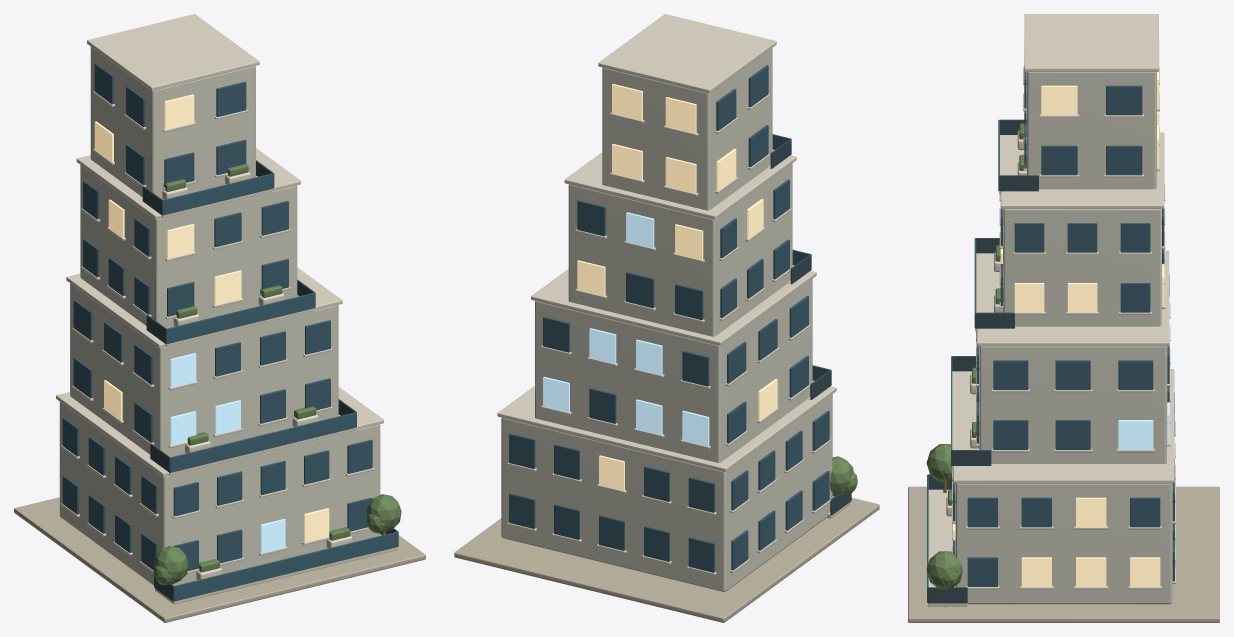
Rendered from residence.glb.
3 renders of one model, left to right at view 1: azimuth 30°, elevation 25°; view 2: azimuth 150°, elevation 25°; view 3: azimuth 270°, elevation 25°, orthographic. The views are drawn at different scales.
Visible parts, largest first — view 1: residence_Building_Volume, residence_Building_Volume.001, residence_Building_Volume.002, residence_Building_Volume.003, residence_Site_Paving, residence_Roof_Coping.003, residence_Balcony_Glass, residence_Balcony_Glass.001, residence_Balcony_Glass.002, residence_Roof_Coping, residence_Roof_Coping.001, residence_Balcony_Glass.003 (+42 smaller); view 2: residence_Building_Volume, residence_Building_Volume.001, residence_Building_Volume.002, residence_Building_Volume.003, residence_Site_Paving, residence_Roof_Coping.003, residence_Roof_Coping, residence_Roof_Coping.001, residence_Roof_Coping.002, residence_Window_Recess.096, residence_Window_Recess.088, residence_Window_Recess.090 (+36 smaller); view 3: residence_Building_Volume, residence_Building_Volume.001, residence_Site_Paving, residence_Building_Volume.002, residence_Building_Volume.003, residence_Roof_Coping.003, residence_Roof_Coping, residence_Roof_Coping.001, residence_Roof_Coping.002, residence_Balcony_Slab.001, residence_Balcony_Slab, residence_Balcony_Slab.002 (+31 smaller).
Boxes of the visible parts, <box> form: residence_Building_Volume: <box>59,402,380,585</box>; residence_Building_Volume.001: <box>70,283,338,457</box>; residence_Building_Volume.002: <box>80,165,297,328</box>; residence_Building_Volume.003: <box>90,46,255,199</box>; residence_Site_Paving: <box>14,497,425,622</box>; residence_Roof_Coping.003: <box>87,14,259,90</box>; residence_Balcony_Glass: <box>174,531,398,601</box>; residence_Balcony_Glass.001: <box>170,412,356,472</box>; residence_Balcony_Glass.002: <box>166,292,315,343</box>; residence_Roof_Coping: <box>56,387,383,476</box>; residence_Roof_Coping.001: <box>66,267,342,348</box>; residence_Balcony_Glass.003: <box>162,173,273,215</box>; residence_Building_Volume: <box>501,394,832,591</box>; residence_Building_Volume.001: <box>535,279,812,462</box>; residence_Building_Volume.002: <box>568,163,792,336</box>; residence_Building_Volume.003: <box>602,48,772,210</box>; residence_Site_Paving: <box>454,497,879,622</box>; residence_Roof_Coping.003: <box>598,14,776,93</box>; residence_Roof_Coping: <box>497,386,836,471</box>; residence_Roof_Coping.001: <box>531,269,816,345</box>; residence_Roof_Coping.002: <box>564,152,796,219</box>; residence_Window_Recess.096: <box>665,97,696,133</box>; residence_Window_Recess.088: <box>665,157,696,193</box>; residence_Window_Recess.090: <box>612,144,642,180</box>; residence_Building_Volume: <box>955,483,1172,604</box>; residence_Building_Volume.001: <box>979,346,1166,463</box>; residence_Site_Paving: <box>908,486,1219,622</box>; residence_Building_Volume.002: <box>1003,209,1161,326</box>; residence_Building_Volume.003: <box>1027,72,1156,189</box>; residence_Roof_Coping.003: <box>1024,14,1158,71</box>; residence_Roof_Coping: <box>953,369,1174,483</box>; residence_Roof_Coping.001: <box>977,250,1169,346</box>; residence_Roof_Coping.002: <box>1000,132,1164,208</box>; residence_Balcony_Slab.001: <box>951,371,979,468</box>; residence_Balcony_Slab: <box>928,489,967,606</box>; residence_Balcony_Slab.002: <box>975,253,1003,331</box>.
Size of the model in its own units: 11.8 by 20.86 by 11.8.
